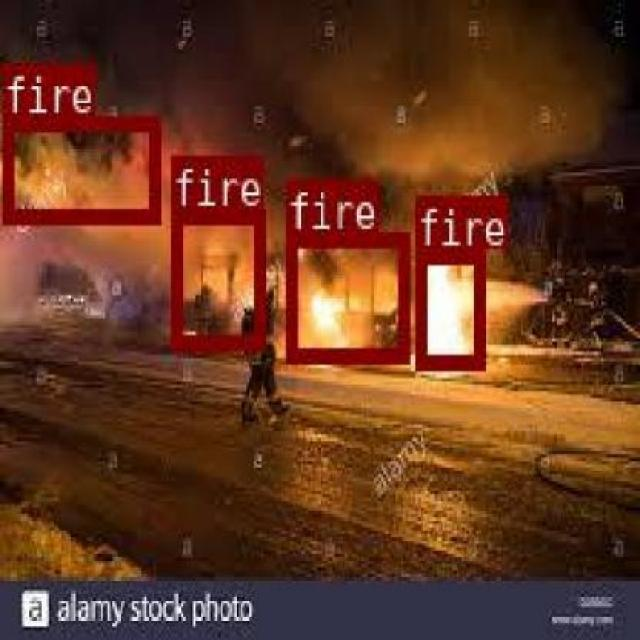Fire: (1, 115, 157, 220), (284, 229, 406, 360), (170, 208, 262, 344), (412, 246, 483, 366)
